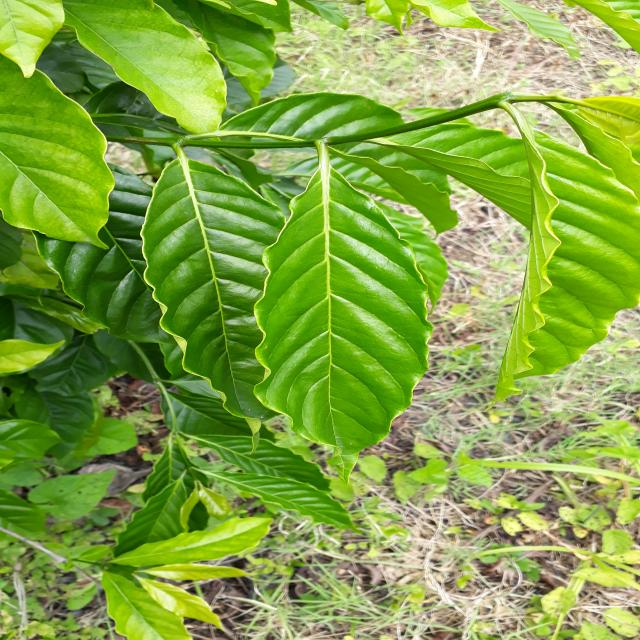Sanas: (255, 167, 447, 455)
